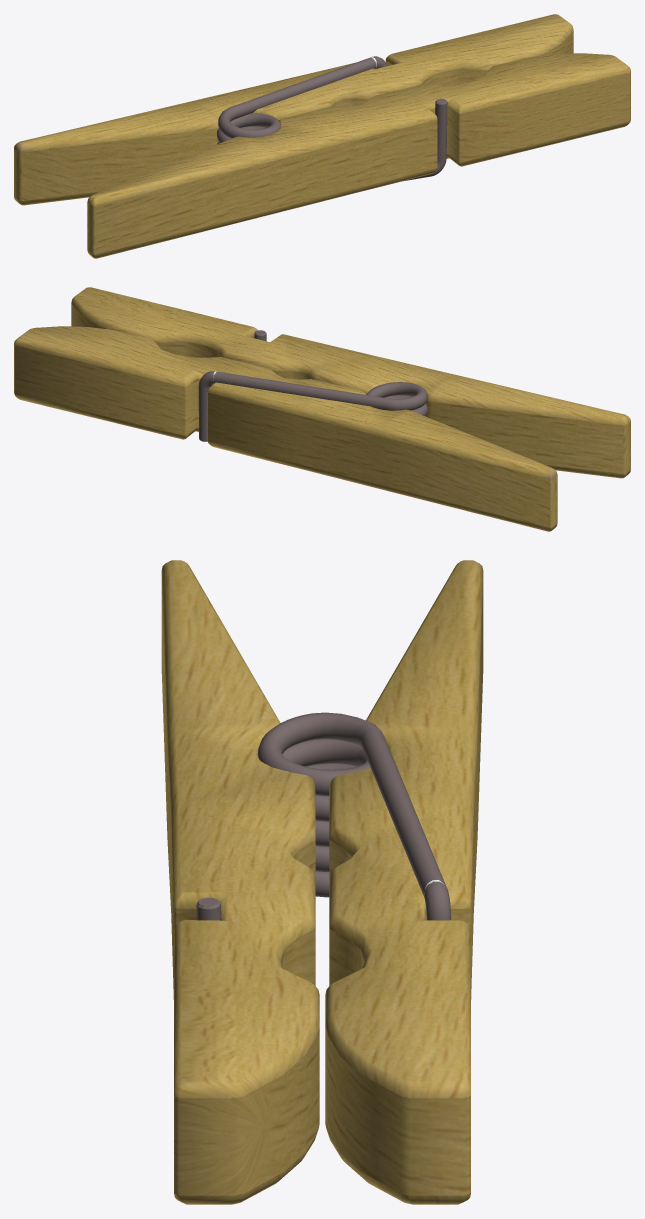
Rendered from peg.glb.
The picture shows the model from 3 angles, top to bottom: view 1: azimuth 30°, elevation 25°; view 2: azimuth 150°, elevation 25°; view 3: azimuth 270°, elevation 25°; orthographic projection. The views are drawn at different scales.
Visible parts, largest first — view 1: LP UVW__0; view 2: LP UVW__0; view 3: LP UVW__0.
Part boxes in pixels (x1=…): LP UVW__0: x1=14, y1=14, x2=630, y2=258; LP UVW__0: x1=14, y1=287, x2=630, y2=531; LP UVW__0: x1=161, y1=560, x2=483, y2=1204.
Bounding box in the file's own units: 53.52 × 7.43 × 13.76.
1 material, 1 textured.
